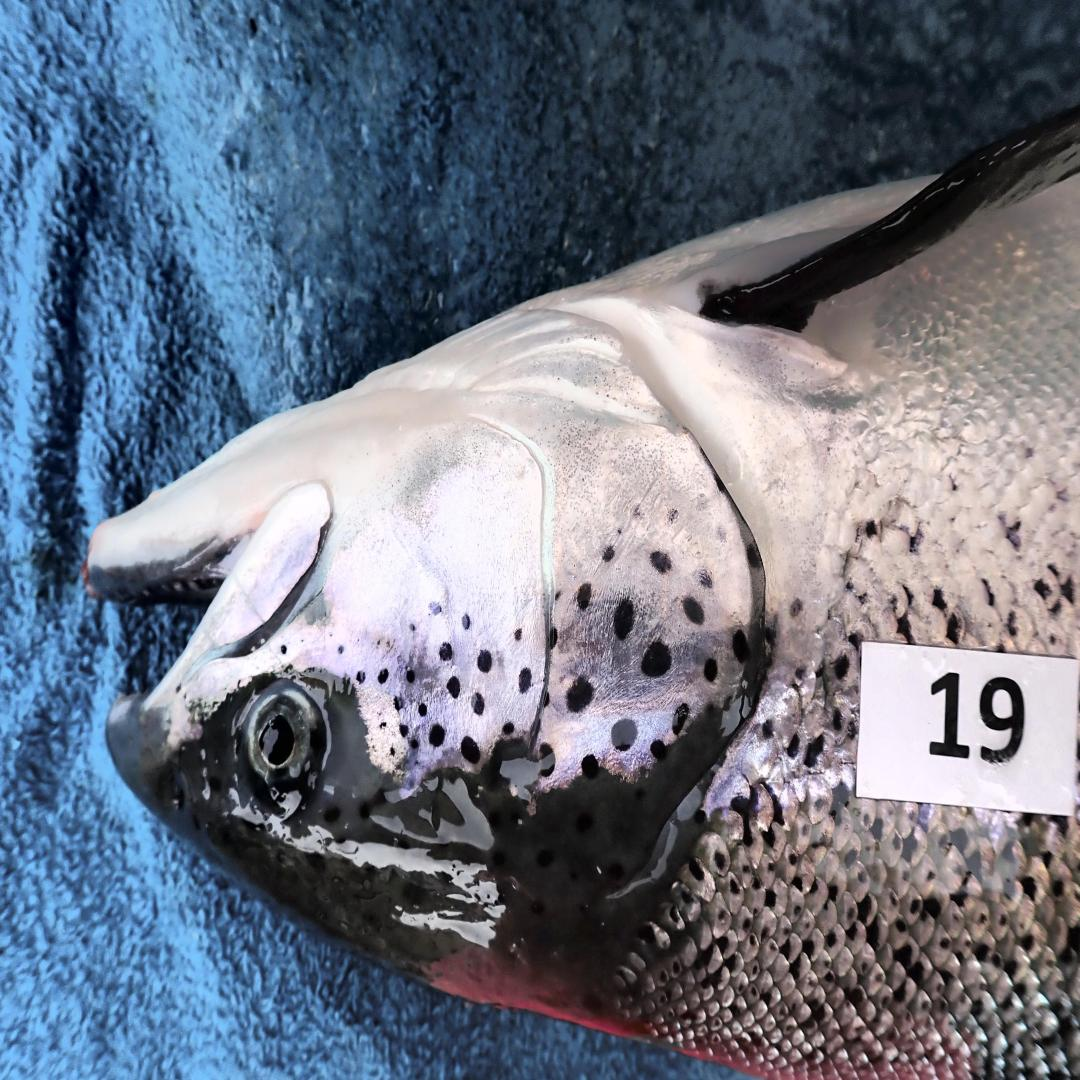spot: (641, 641, 671, 678), (567, 678, 595, 712), (614, 599, 635, 641), (612, 717, 637, 751), (732, 627, 751, 664), (683, 596, 705, 624), (539, 742, 555, 778), (673, 703, 690, 734), (460, 737, 481, 762), (650, 551, 671, 574), (576, 582, 593, 610), (428, 723, 445, 748), (582, 754, 599, 779), (746, 541, 761, 567), (698, 568, 713, 591), (519, 667, 532, 692), (650, 740, 667, 759), (477, 650, 491, 672), (439, 641, 454, 661), (705, 658, 717, 683), (447, 675, 460, 698), (472, 692, 485, 714), (502, 720, 515, 737), (601, 546, 614, 562), (428, 602, 441, 616), (633, 503, 643, 520), (669, 506, 679, 523), (378, 669, 390, 683), (405, 669, 416, 683), (407, 619, 418, 633), (409, 737, 420, 751), (418, 703, 428, 717), (399, 723, 409, 737), (462, 613, 470, 630), (542, 692, 551, 706), (394, 698, 403, 712), (551, 627, 557, 647), (515, 627, 523, 641), (388, 745, 397, 757), (356, 672, 365, 683), (281, 644, 287, 655), (338, 644, 344, 655), (555, 591, 561, 601), (380, 721, 387, 729), (617, 528, 621, 535)
